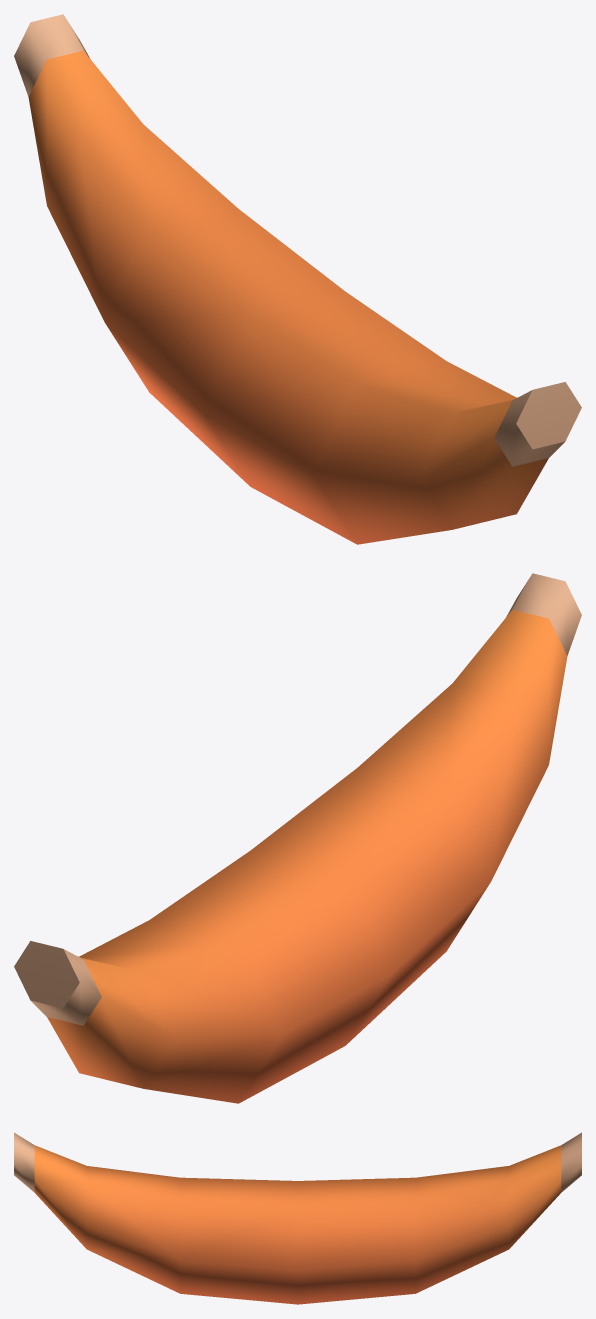
File: banana.glb
3 views of the same model, one above another, from view 1: azimuth 30°, elevation 25°; view 2: azimuth 150°, elevation 25°; view 3: azimuth 270°, elevation 25° (orthographic). The views are drawn at different scales.
Parts seen in each view (by area): view 1: banana.001; view 2: banana.001; view 3: banana.001.
Part boxes in pixels (box(x1,y1,x2,y2)): banana.001: box(14, 14, 581, 544); banana.001: box(14, 573, 581, 1103); banana.001: box(14, 1132, 581, 1304).
Bounding box in the file's own units: 0.1376 × 0.1891 × 0.6299.
1 material, 1 textured.
